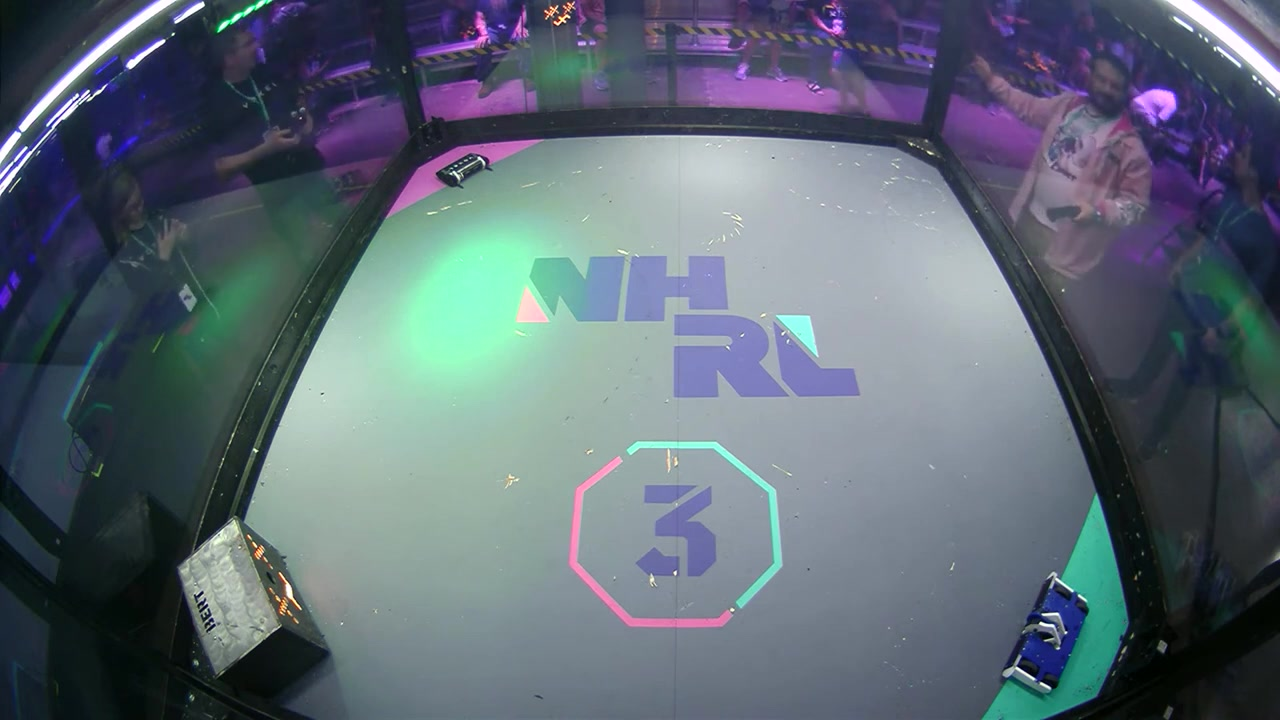combatbot: (1000, 571, 1094, 701), (435, 154, 495, 187)
housebot: (175, 518, 330, 692)
